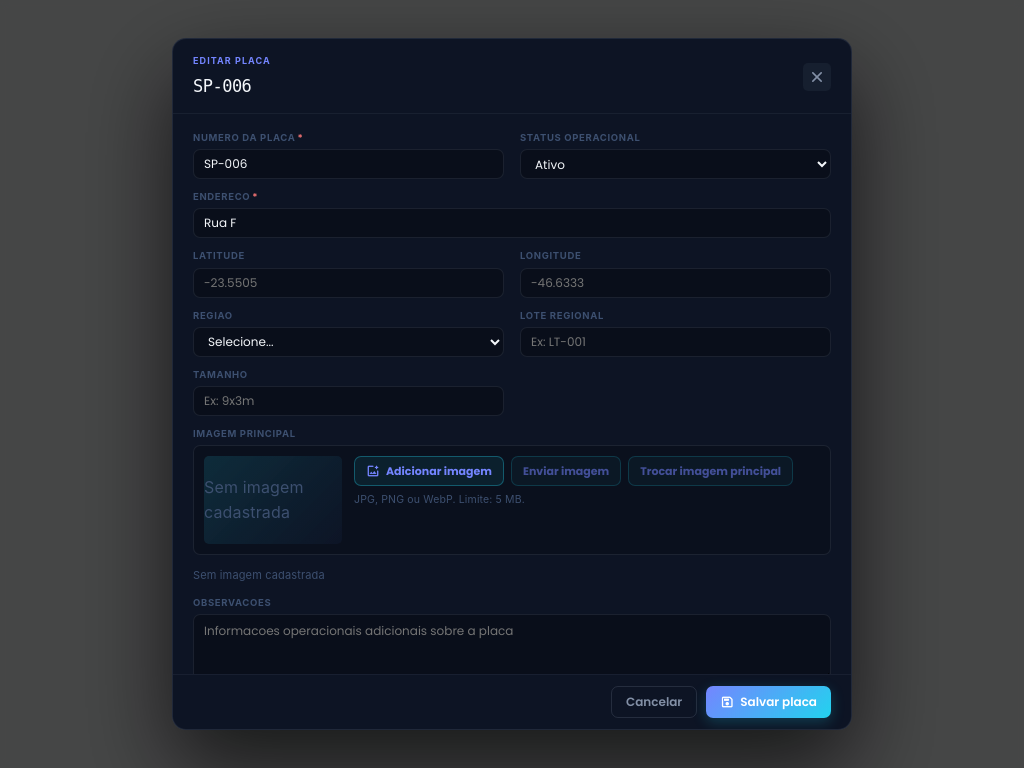
Test: BoardEditPanel › mantem o painel aberto e mostra conflito amigavel ao renomear
What coordinates should you click on to do the following:
click the button "Salvar placa"
I would click on:
 (769, 702)
Its box is [706,686,831,718].
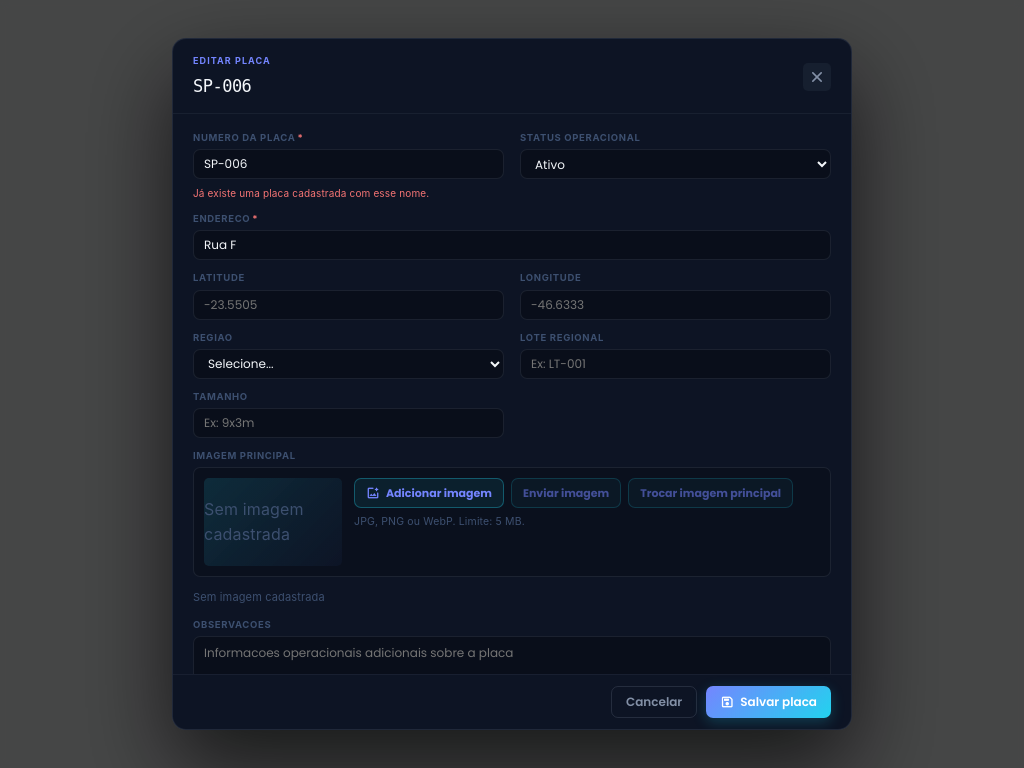
Result: the text "Já existe uma placa cadastrada com esse nome." is shown at [193,187,429,199]
